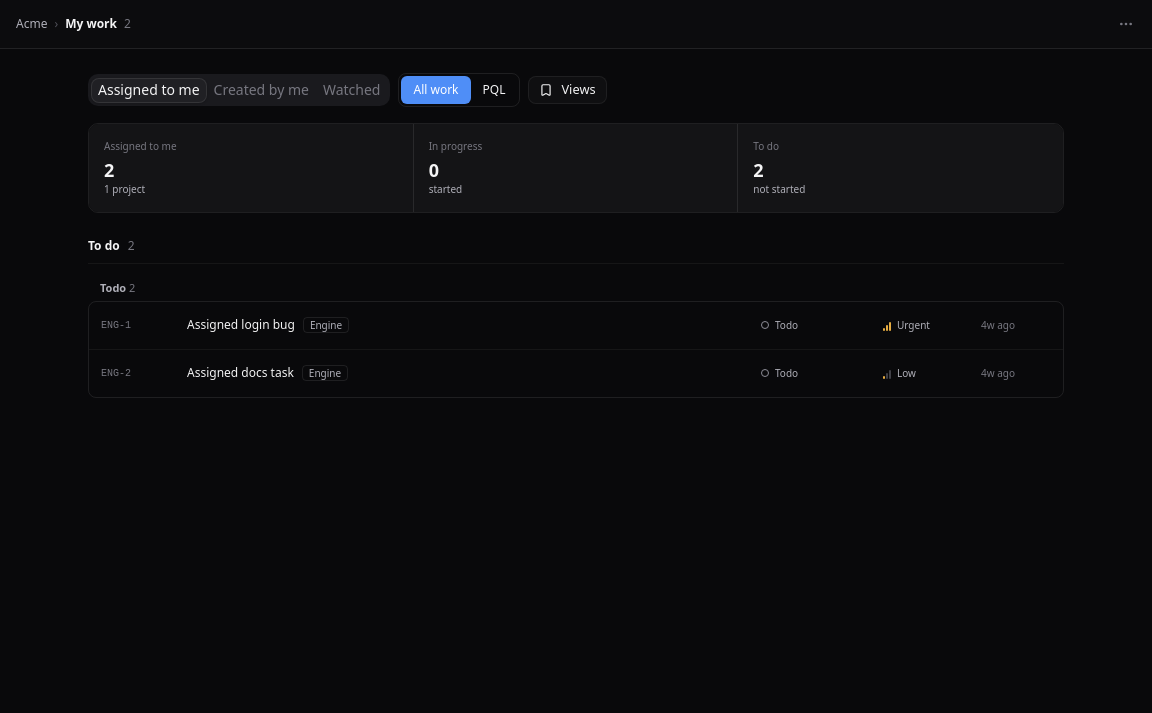
mywork PQL mode (C112T1) › a query matching nothing under the current tab shows the PQL empty state
Expected: the text "Assigned login bug" is shown, top-left (187, 316), bottom-right (295, 334)
Expected: the text "Assigned docs task" is shown, top-left (187, 364), bottom-right (294, 382)
Step 1. Click the tab "Created by me" → click(261, 90), box top-left (206, 78), bottom-right (316, 102)
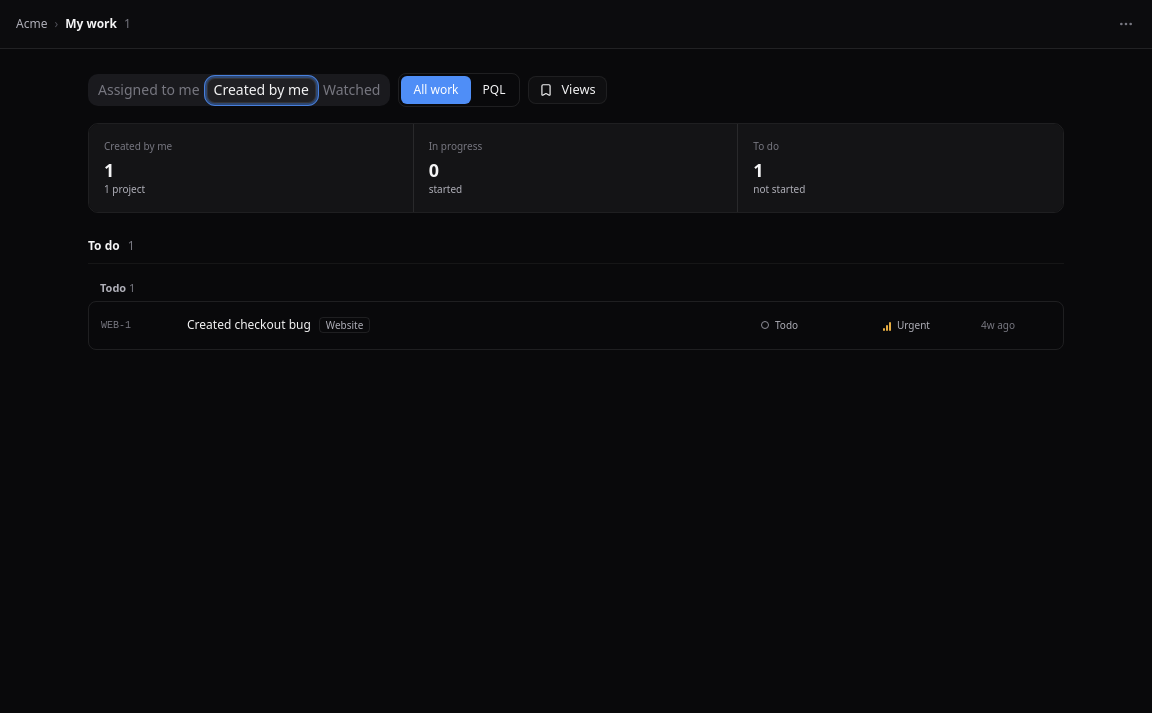
Result: the text "Created checkout bug" is shown at top-left (187, 316), bottom-right (311, 334)
Step 2. Click the button "PQL" → click(494, 90), box top-left (470, 76), bottom-right (517, 104)
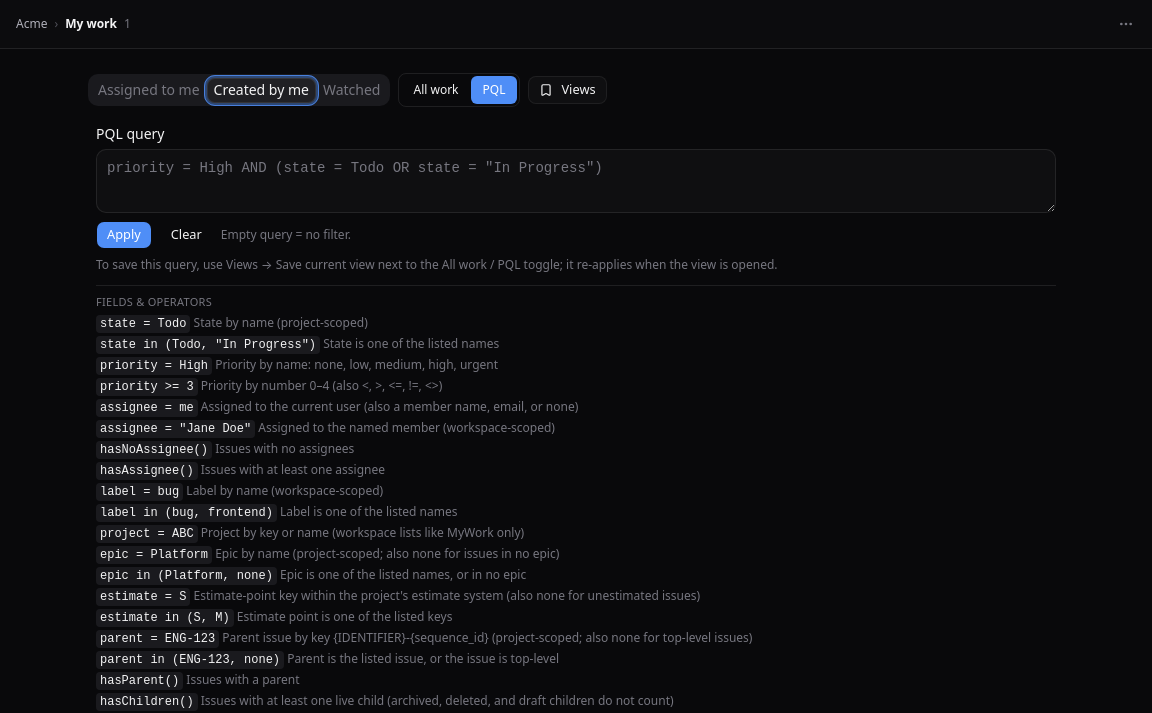
Result: the text box labelled "PQL query" is shown
Step 3. Type "priority = Low" into the text box labelled "PQL query" → (576, 181), box top-left (96, 149), bottom-right (1056, 213)
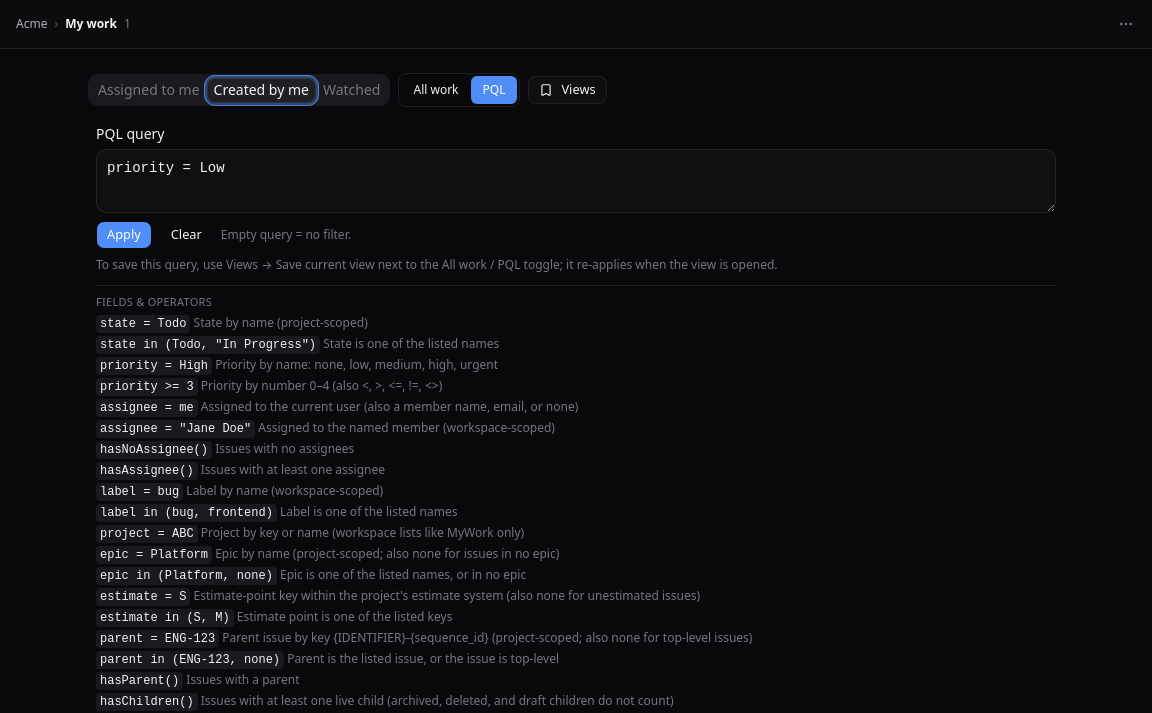
Step 4. Click the button "Apply" → click(124, 235), box top-left (96, 221), bottom-right (152, 249)
(page scrolled)
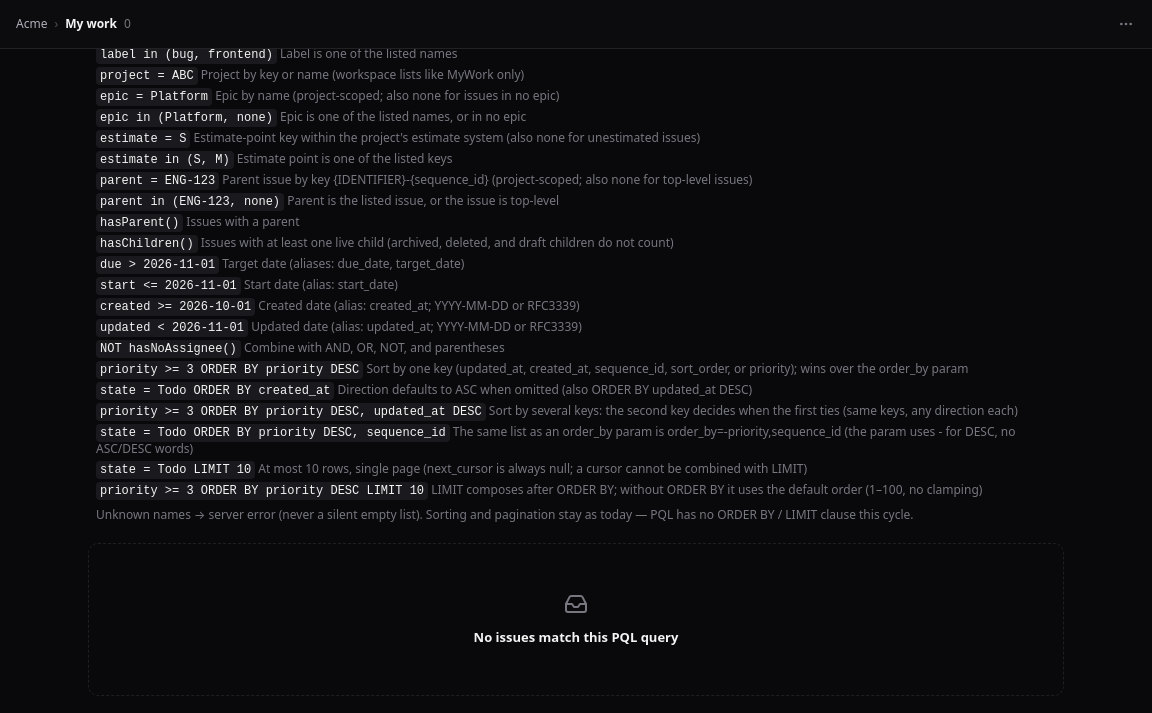
Expected: the link "Created checkout bug" is not shown
Result: the text "No issues match this PQL query" is shown at top-left (474, 628), bottom-right (678, 647)
